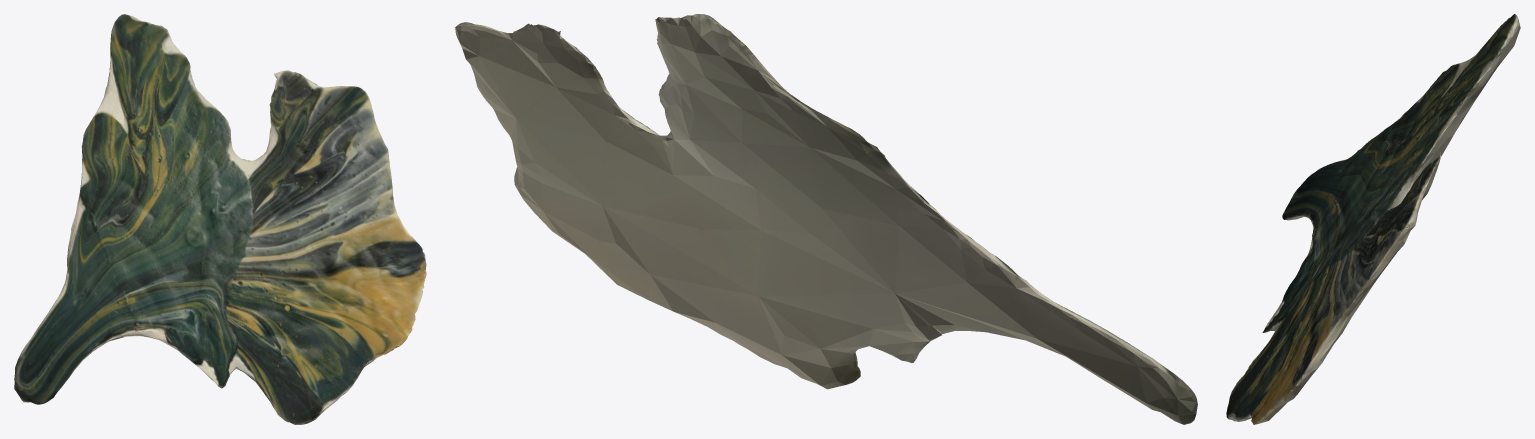
The picture shows the model from 3 angles, left to right: view 1: azimuth 30°, elevation 25°; view 2: azimuth 150°, elevation 25°; view 3: azimuth 270°, elevation 25°; orthographic projection. The views are drawn at different scales.
Size of the model in its own units: 0.676 by 0.5193 by 0.3742.
Materials: 1 (1 with a texture image).
